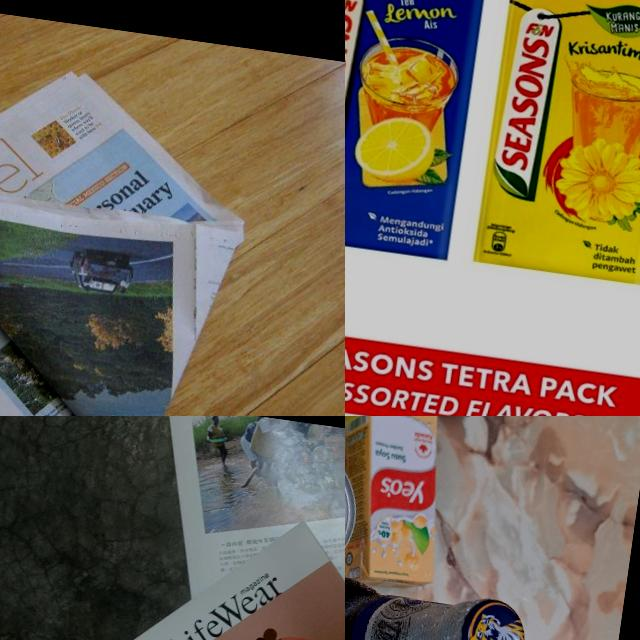caixinha: (472, 0, 640, 290), (345, 0, 490, 259), (345, 416, 459, 590)
garrafa de vidro: (345, 552, 525, 640)
papel: (0, 43, 265, 416), (95, 416, 345, 640)
